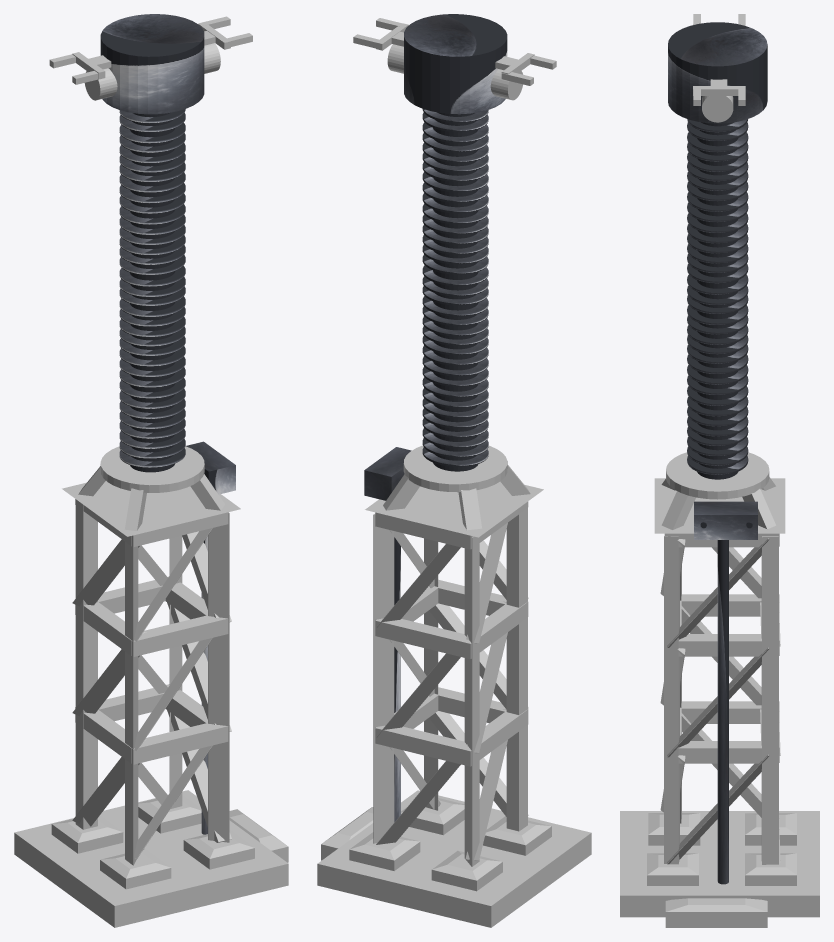
The model's file is Modelo6_115.fbx.
3 views of the same model, side by side, from view 1: azimuth 30°, elevation 25°; view 2: azimuth 150°, elevation 25°; view 3: azimuth 270°, elevation 25° (orthographic).
Parts seen in each view (by area): view 1: Plane.001, Cylinder.001, Cube.002, Cilindro.001, Cube.001; view 2: Plane.001, Cylinder.001, Cube.002, Cilindro.001, Cube.001, Cilindro; view 3: Plane.001, Cylinder.001, Cube.002, Cilindro.001, Cilindro, Cube.001.
Part boxes in pixels (bbox=[...]): Plane.001: bbox=[62, 446, 240, 865]; Cylinder.001: bbox=[100, 14, 204, 467]; Cube.002: bbox=[14, 790, 288, 927]; Cilindro.001: bbox=[129, 112, 235, 494]; Cube.001: bbox=[49, 16, 252, 100]; Plane.001: bbox=[365, 445, 543, 866]; Cylinder.001: bbox=[404, 14, 507, 466]; Cube.002: bbox=[317, 790, 591, 927]; Cilindro.001: bbox=[364, 112, 478, 500]; Cube.001: bbox=[353, 18, 556, 100]; Cilindro: bbox=[394, 537, 400, 822]; Plane.001: bbox=[654, 452, 785, 864]; Cylinder.001: bbox=[668, 22, 767, 475]; Cube.002: bbox=[620, 811, 819, 927]; Cilindro.001: bbox=[694, 122, 757, 539]; Cilindro: bbox=[717, 540, 728, 884]; Cube.001: bbox=[693, 14, 745, 122].
Size of the model in its own units: 570 by 2292 by 500.
